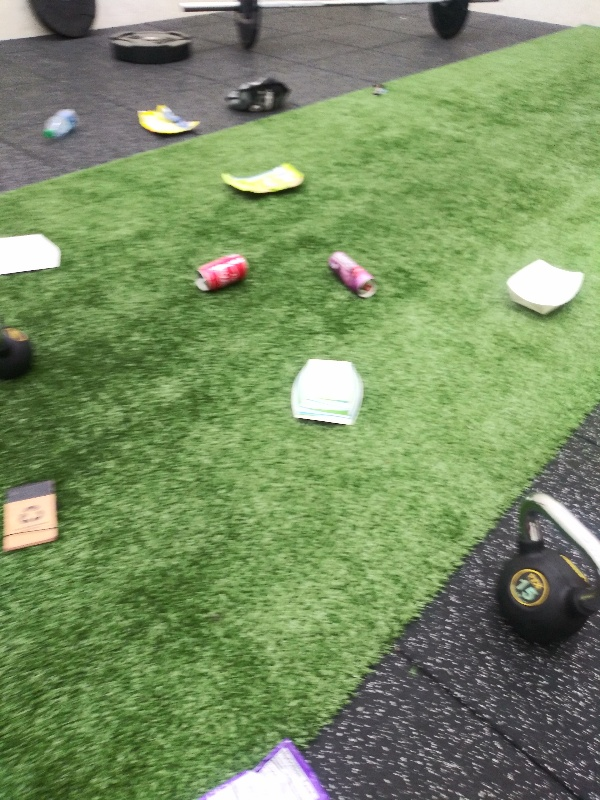bag: (179, 732, 355, 800), (218, 162, 310, 201), (134, 101, 203, 141)
bottle: (38, 105, 85, 149)
can: (321, 248, 378, 302), (190, 251, 258, 295)
plate: (286, 353, 367, 431), (502, 259, 587, 315), (1, 230, 63, 280)
